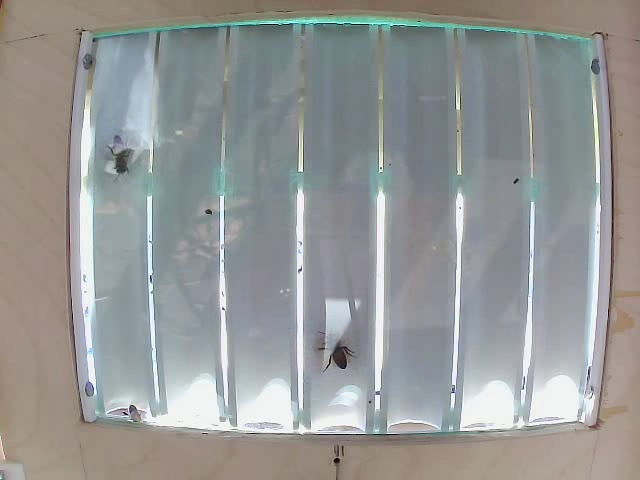bee: (311, 321, 366, 369), (105, 138, 140, 192)
